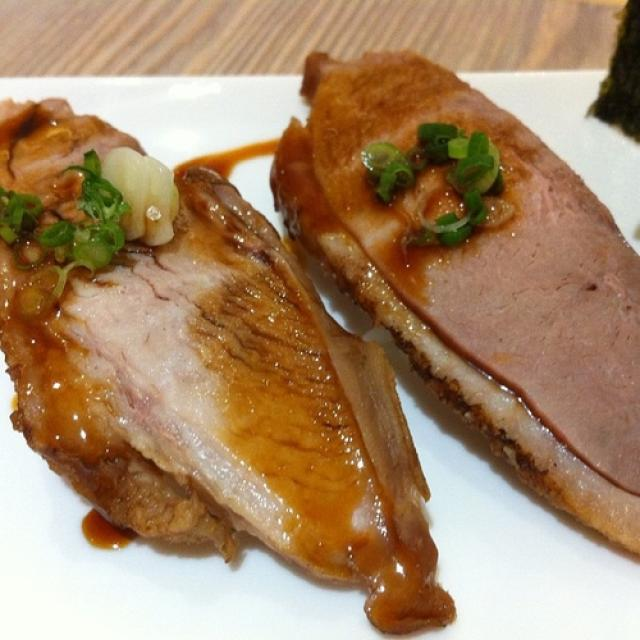烧串烤肉: (29, 64, 612, 586)
